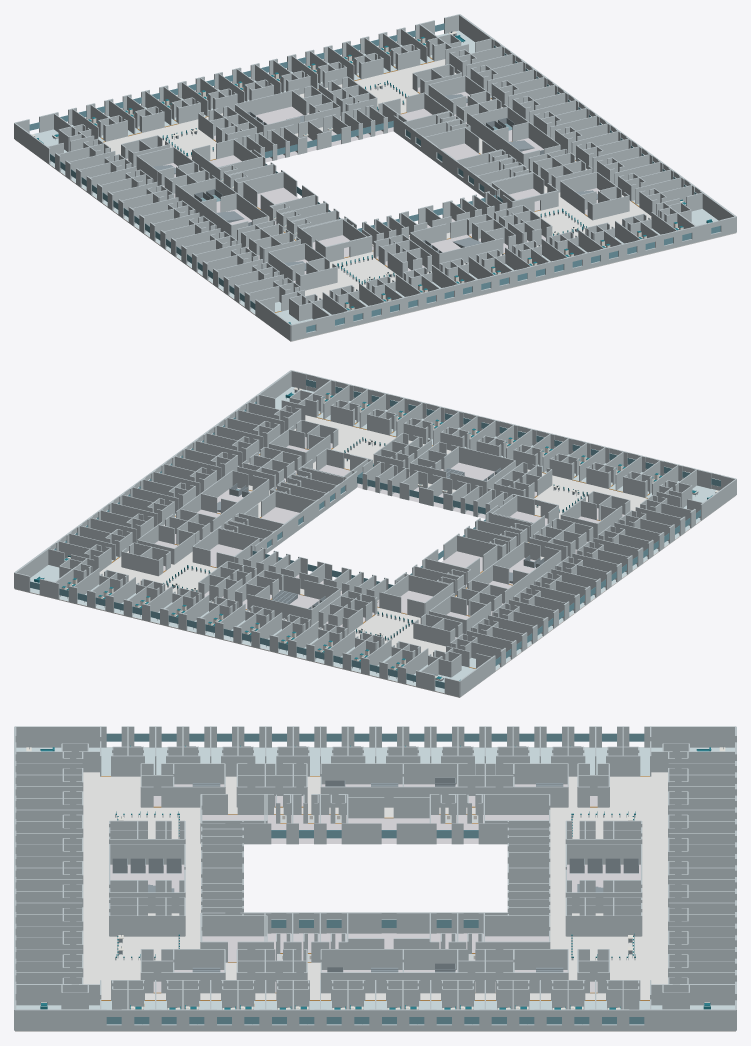
File: nanjing-ward.glb
3 views of the same model, one above another, from view 1: azimuth 30°, elevation 25°; view 2: azimuth 150°, elevation 25°; view 3: azimuth 270°, elevation 25° (orthographic). The views are drawn at different scales.
Parts seen in each view (by area): view 1: Floor slab, wall-1260, wall-1333, wall-45, wall-991, wall-25, wall-1028, wall-1091; view 2: Floor slab, wall-1333, wall-1260, wall-45, wall-25, wall-908, wall-913; view 3: Floor slab, wall-23 (×2), 内侧支持房间 (×3), wall-1119, wall-812, wall-836, wall-1194, wall-974, wall-912, wall-909, wall-1338, wall-1265 (+79 smaller).
Part boxes in pixels (x1=…): Floor slab: x1=15, y1=33, x2=735, y2=341; wall-1260: x1=235, y1=89, x2=299, y2=115; wall-1333: x1=439, y1=238, x2=503, y2=263; wall-45: x1=14, y1=123, x2=50, y2=164; wall-991: x1=238, y1=171, x2=283, y2=196; wall-25: x1=255, y1=299, x2=290, y2=340; wall-1028: x1=302, y1=218, x2=346, y2=242; wall-1091: x1=488, y1=172, x2=533, y2=194; Floor slab: x1=15, y1=415, x2=735, y2=697; wall-1333: x1=451, y1=445, x2=514, y2=471; wall-1260: x1=247, y1=594, x2=311, y2=625; wall-45: x1=460, y1=655, x2=495, y2=696; wall-25: x1=700, y1=479, x2=736, y2=520; wall-908: x1=408, y1=574, x2=449, y2=596; wall-913: x1=218, y1=528, x2=259, y2=549; Floor slab: x1=15, y1=747, x2=735, y2=1031; wall-23 (×2): x1=15, y1=1009, x2=735, y2=1030; 内侧支持房间 (×3): x1=202, y1=818, x2=429, y2=961; wall-1119: x1=321, y1=763, x2=402, y2=784; wall-812: x1=651, y1=726, x2=734, y2=747; wall-836: x1=16, y1=727, x2=99, y2=747; wall-1194: x1=321, y1=949, x2=402, y2=969; wall-974: x1=202, y1=915, x2=266, y2=936; wall-912: x1=485, y1=915, x2=548, y2=936; wall-909: x1=484, y1=794, x2=549, y2=814; wall-1338: x1=110, y1=844, x2=184, y2=864; wall-1265: x1=566, y1=844, x2=640, y2=864.
Size of the model in its own units: 95.28 by 3.38 by 102.
